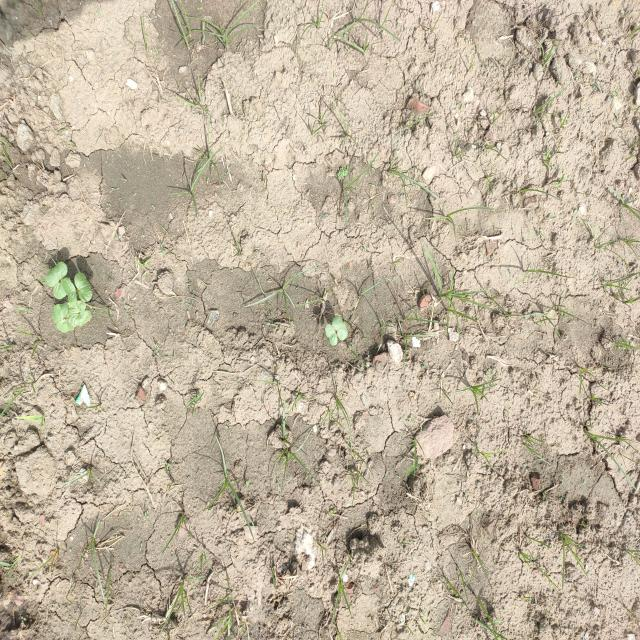seedling: (45, 262, 68, 287), (74, 272, 93, 302), (62, 278, 77, 309), (68, 310, 92, 327), (332, 316, 348, 340), (52, 302, 69, 323), (67, 301, 86, 317), (53, 278, 66, 300), (325, 324, 337, 346), (57, 318, 74, 332)
